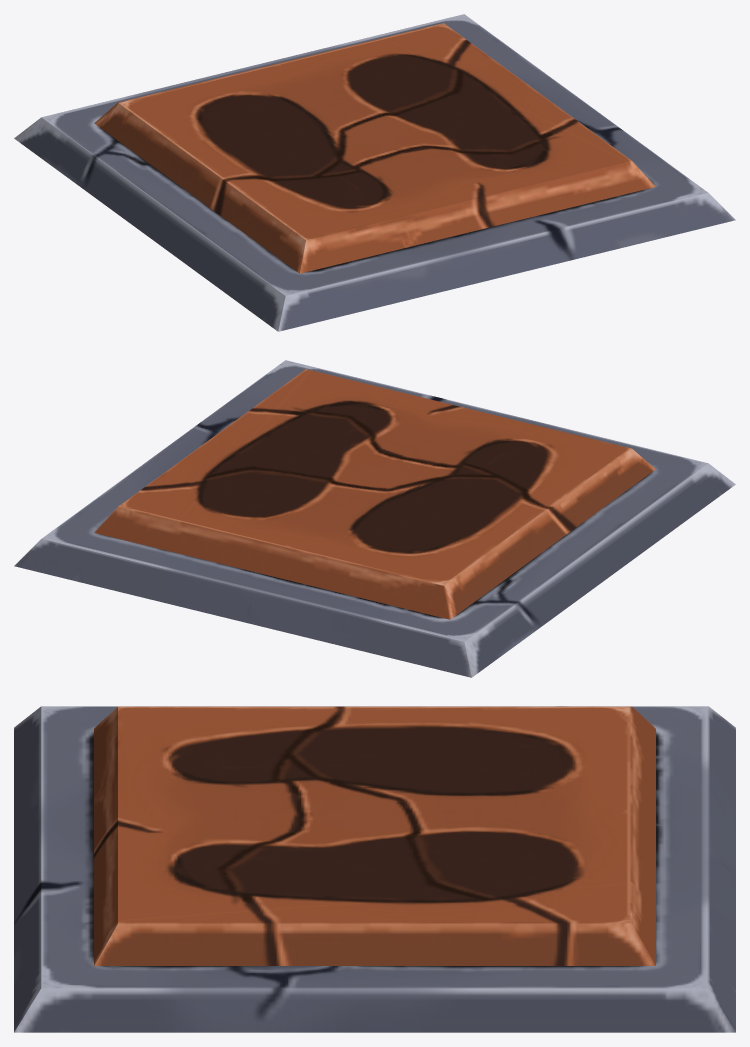
Rendered from Floor Button Block.FBX.
3 renders of one model, top to bottom at view 1: azimuth 30°, elevation 25°; view 2: azimuth 150°, elevation 25°; view 3: azimuth 270°, elevation 25°, orthographic. The views are drawn at different scales.
Visible parts, largest first — view 1: Box002, Box001; view 2: Box002, Box001; view 3: Box002, Box001.
Boxes of the visible parts, x1,y1,x2,y2 form: Box002: (94,23,655,273); Box001: (14,14,735,331); Box002: (94,369,655,619); Box001: (14,360,735,677); Box002: (94,706,655,965); Box001: (14,706,735,1032).
Size of the model in its own units: 49.19 by 4.89 by 49.19.
1 material, 1 textured.
